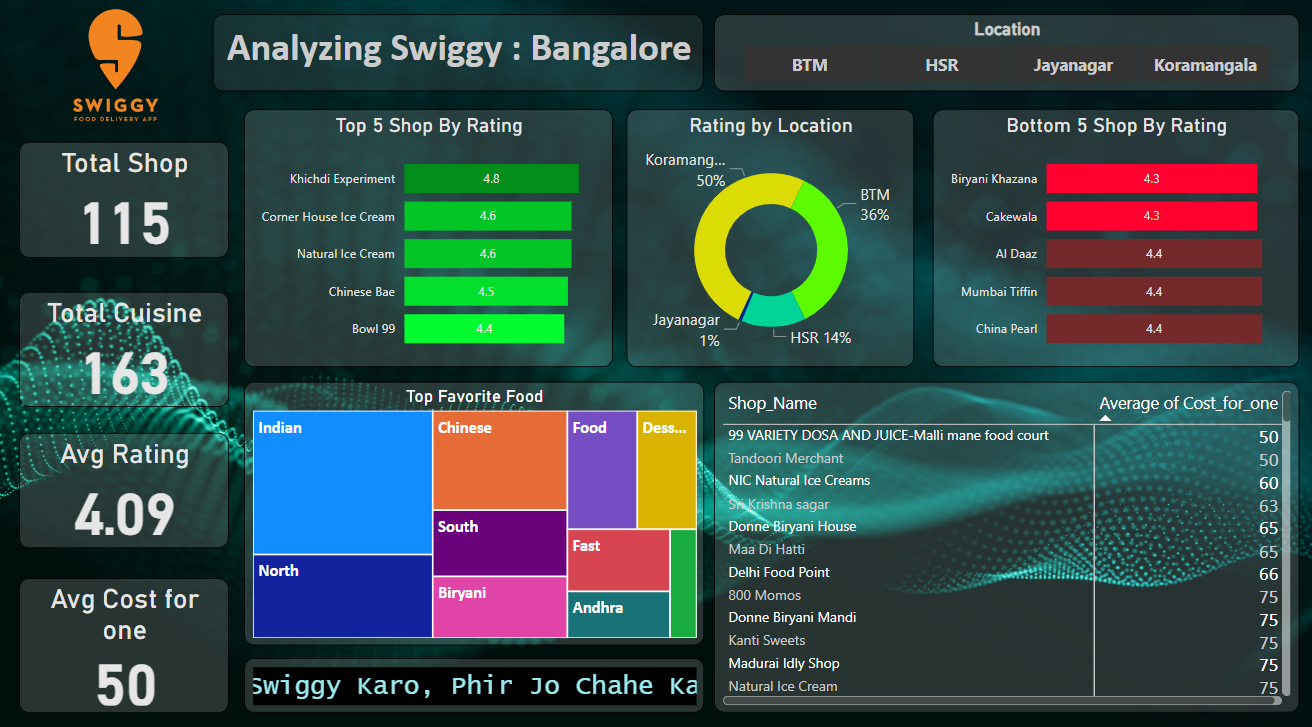

Layout of this report page (visuals, bound fields, positions):
{"tool":"powerbi","page":{"name":"Page 2","canvas":[1280,720],"ordinal":0},"visuals":[{"type":"image","box":[24.1,10.9,186.9,118.2],"z":0},{"type":"textbox","box":[211.1,20.5,474,74.8],"z":1000},{"type":"slicer","title":"Location","fields":{"Values":["Swiggy Bangalore Outlet Details.Location.2"]},"box":[694.7,20.5,564.4,74.8],"z":2000},{"type":"card","title":"Total Shop","fields":{"Values":["Count(Swiggy Bangalore Outlet Details.Shop_Name)"]},"box":[24.1,143.5,202.6,112.2],"z":3000},{"type":"card","title":"Avg Cost for one","fields":{"Values":["Min(Swiggy Bangalore Outlet Details.Cost_for_one)"]},"box":[24.1,564.4,202.6,130.3],"z":4000},{"type":"card","title":"Total Cuisine","fields":{"Values":["Avg(Swiggy Bangalore Outlet Details.Cost_for_one)"]},"box":[24.1,288.2,202.6,111],"z":5000},{"type":"card","title":"Avg Rating ","fields":{"Values":["Avg(Swiggy Bangalore Outlet Details.Rating)"]},"box":[24.1,424.5,202.6,111],"z":6000},{"type":"donutChart","title":"Rating by Location","fields":{"Category":["Swiggy Bangalore Outlet Details.Location.2"],"Y":["CountNonNull(Swiggy Bangalore Outlet Details.Rating)"]},"box":[610.3,112.2,277.4,248.4],"z":7000},{"type":"pivotTable","title":"Shop VS Avg Cost","fields":{"Values":["Avg(Swiggy Bangalore Outlet Details.Cost_for_one)"],"Rows":["Swiggy Bangalore Outlet Details.Shop_Name"]},"box":[694.7,375.1,564.4,319.6],"z":8000},{"type":"clusteredBarChart","title":"Bottom 5 Shop By Rating ","fields":{"Y":["Avg(Swiggy Bangalore Outlet Details.Rating)"],"Category":["Swiggy Bangalore Outlet Details.Shop_Name"]},"box":[905.7,112.2,353.4,248.4],"z":9000},{"type":"clusteredBarChart","title":"Top 5 Shop By Rating ","fields":{"Y":["Avg(Swiggy Bangalore Outlet Details.Rating)"],"Category":["Swiggy Bangalore Outlet Details.Shop_Name"]},"box":[241.2,112.2,355.8,248.4],"z":10000},{"type":"treemap","title":"Top Favorite Food","fields":{"Group":["Swiggy Bangalore Outlet Details.Cuisine.1"],"Values":["CountNonNull(Swiggy Bangalore Outlet Details.Location.2)"]},"box":[241.2,375.1,443.8,254.5],"z":11000},{"type":"ScrollingTextVisual1448795304508","fields":{"Category":["Swiggy Bangalore Outlet Details.Swiggy_tagline"],"Measure Absolute":["Count(Swiggy Bangalore Outlet Details.Swiggy_tagline)"]},"box":[241.2,641.6,443.8,53.1],"z":12000}]}

Visuals, with their boxes in screenshot pixels (x1, y1, x2, y2), scaled from the page's 1280x720 canvas onto the 1312x727 screenshot:
image: rect(25, 11, 216, 130)
textbox: rect(216, 21, 702, 96)
"Location" slicer: rect(712, 21, 1291, 96)
"Total Shop" card: rect(25, 145, 232, 258)
"Avg Cost for one" card: rect(25, 570, 232, 701)
"Total Cuisine" card: rect(25, 291, 232, 403)
"Avg Rating " card: rect(25, 429, 232, 541)
"Rating by Location" donutChart: rect(626, 113, 910, 364)
"Shop VS Avg Cost" pivotTable: rect(712, 379, 1291, 701)
"Bottom 5 Shop By Rating " clusteredBarChart: rect(928, 113, 1291, 364)
"Top 5 Shop By Rating " clusteredBarChart: rect(247, 113, 612, 364)
"Top Favorite Food" treemap: rect(247, 379, 702, 636)
ScrollingTextVisual1448795304508 - Swiggy Bangalore Outlet Details.Swiggy_tagline x Count(Swiggy Bangalore Outlet Details.Swiggy_tagline): rect(247, 648, 702, 701)
